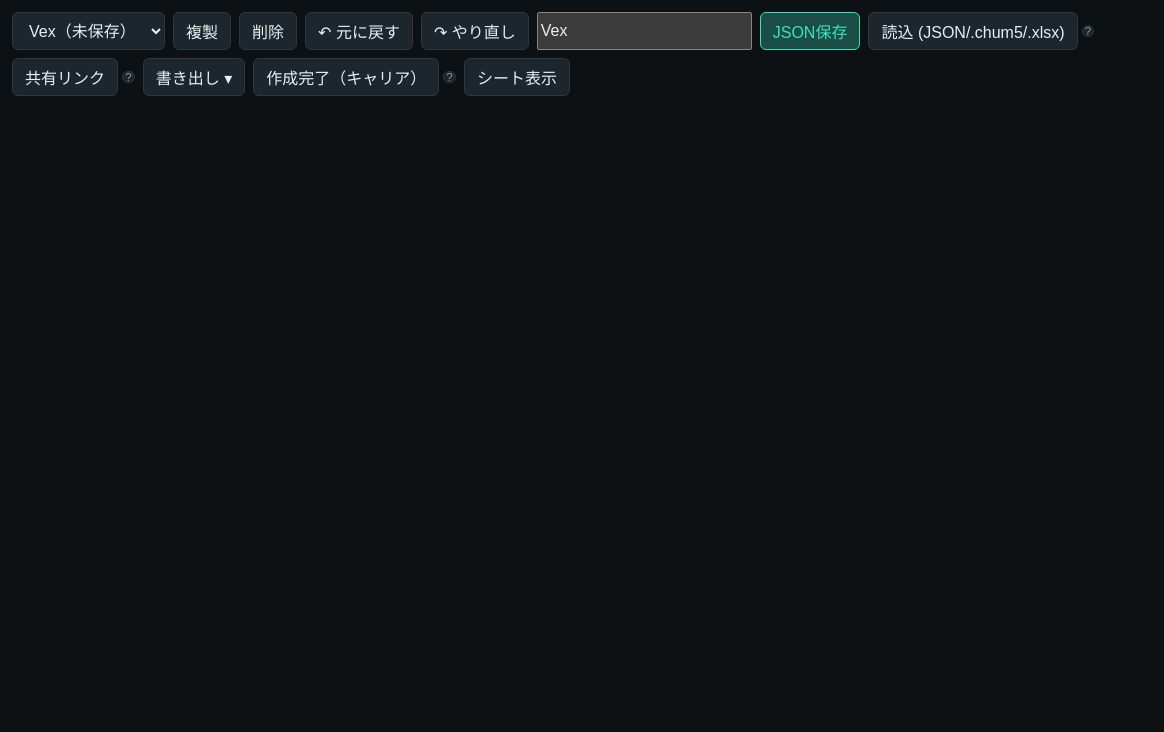
Test case: <Toolbar> › shows コピー ✓ on whichever button was copied, and no other
Click the button "書き出し ▾": (194, 77) [143,58,245,96]
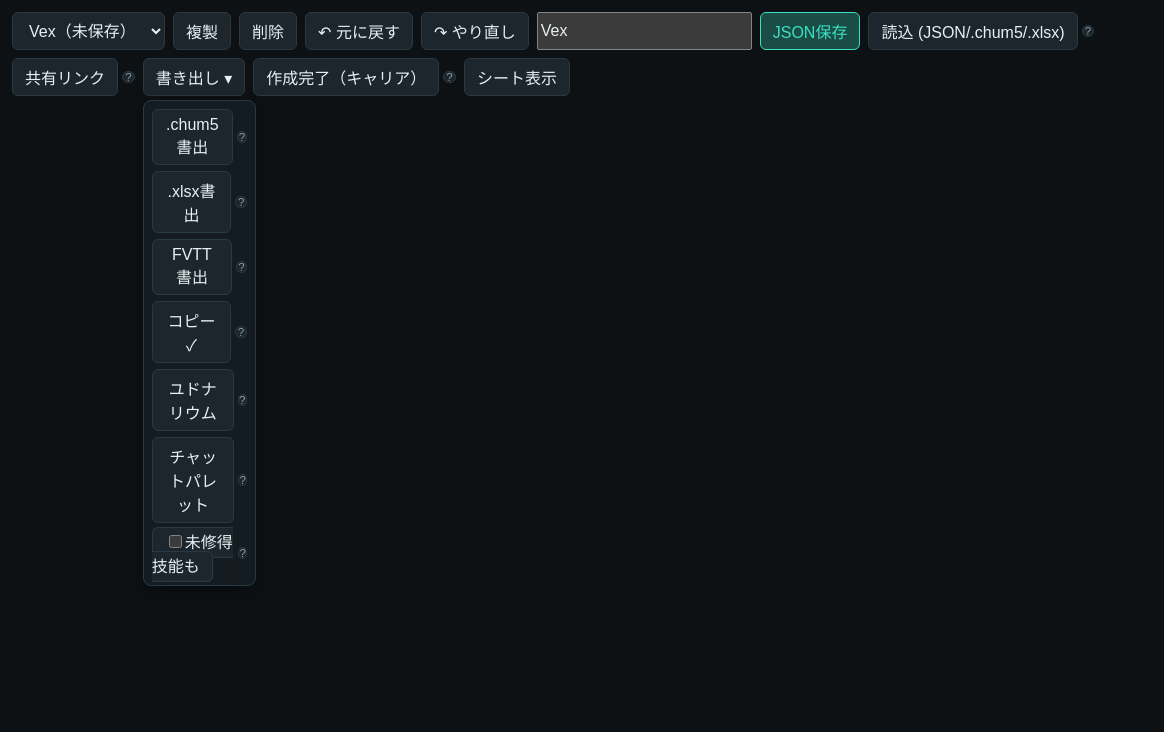
Expected: the button "共有リンク" is shown, [12,58,118,96]
Expected: the button "コピー ✓" is shown, [152,301,231,363]
Expected: the button "チャットパレット" is shown, [152,437,234,523]
